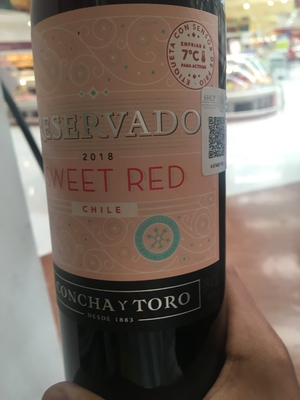reservado sweet red: (28, 3, 249, 395)
